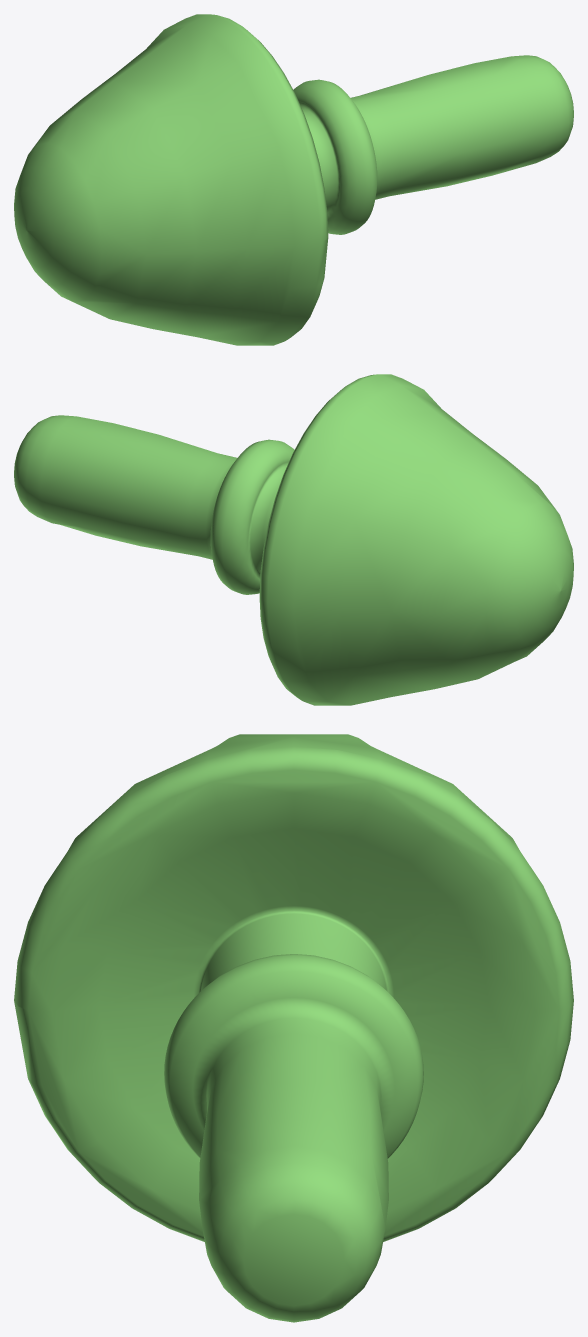
Rendered from mushroom_1.fbx.
3 renders of one model, top to bottom at view 1: azimuth 30°, elevation 25°; view 2: azimuth 150°, elevation 25°; view 3: azimuth 270°, elevation 25°, orthographic. The views are drawn at different scales.
Visible parts, largest first — view 1: revolvedSurface1; view 2: revolvedSurface1; view 3: revolvedSurface1.
Boxes of the visible parts, x1=… form: revolvedSurface1: x1=14, y1=14, x2=573, y2=345; revolvedSurface1: x1=14, y1=374, x2=573, y2=705; revolvedSurface1: x1=14, y1=734, x2=573, y2=1322.
Size of the model in its own units: 7.14 by 3.96 by 3.96.
